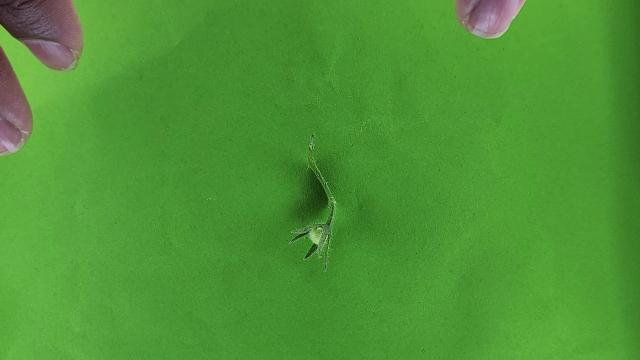Fruit Bud: (288, 221, 330, 264)
